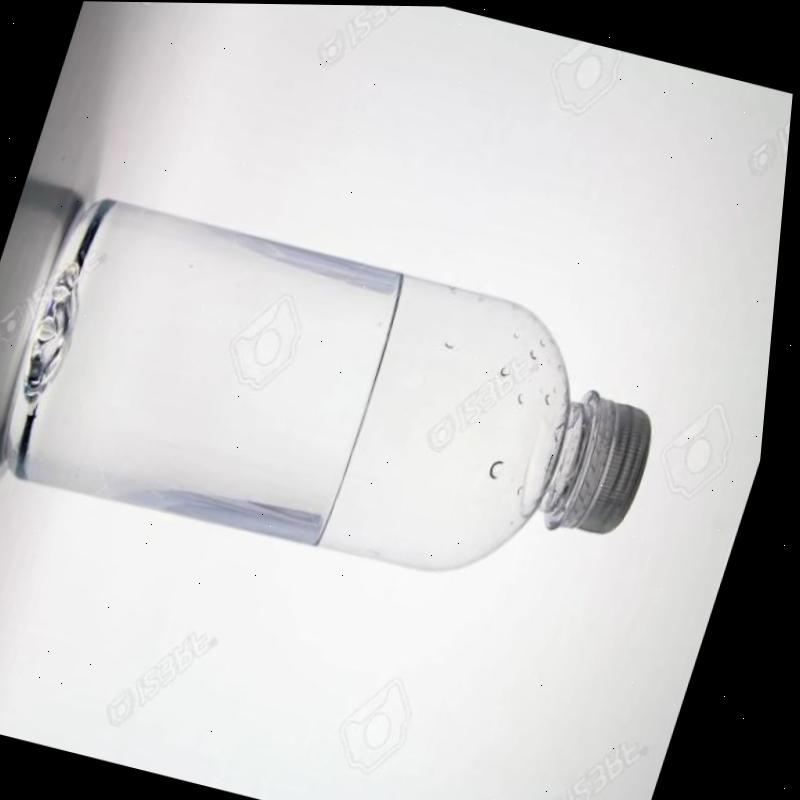botella: (0, 182, 703, 630)
